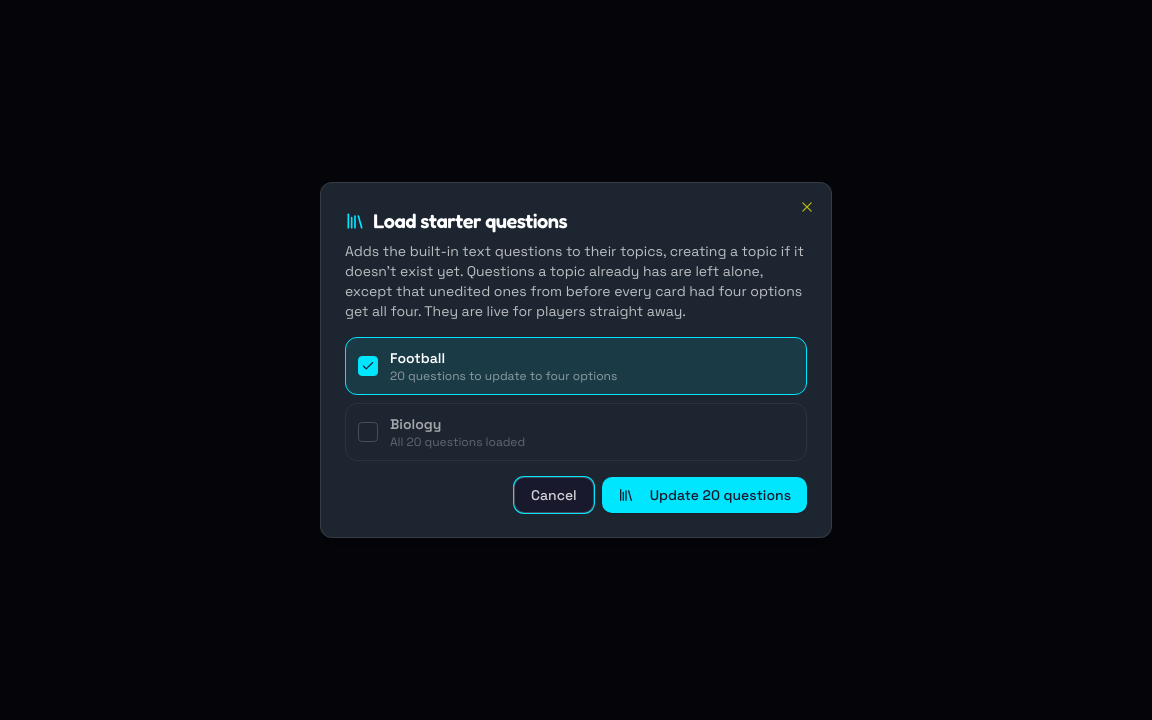
Scenario: LoadStarterDialog › offers to give old two-option starter questions all four
This screenshot has width=1152, height=720.
Expected: the checkbox labelled "Football" is checked, [345, 337, 807, 395]
Expected: the text "20 questions to update to four options" is shown, [390, 368, 617, 384]
Step 1. Click the button "Update 20 questions" → (704, 495), box [602, 477, 807, 513]
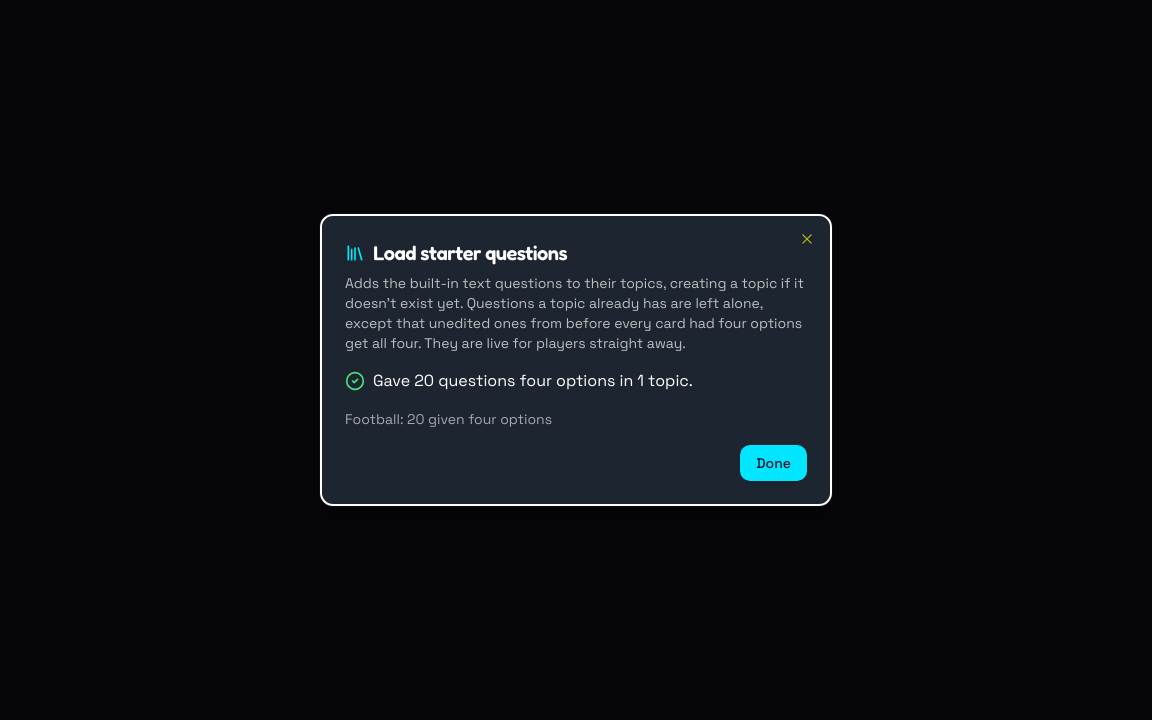
Expected: the text "Gave 20 questions four options in 1 topic." is shown, [373, 369, 693, 393]
Expected: the list item "Football: 20 given four options" is shown, [345, 410, 552, 428]
